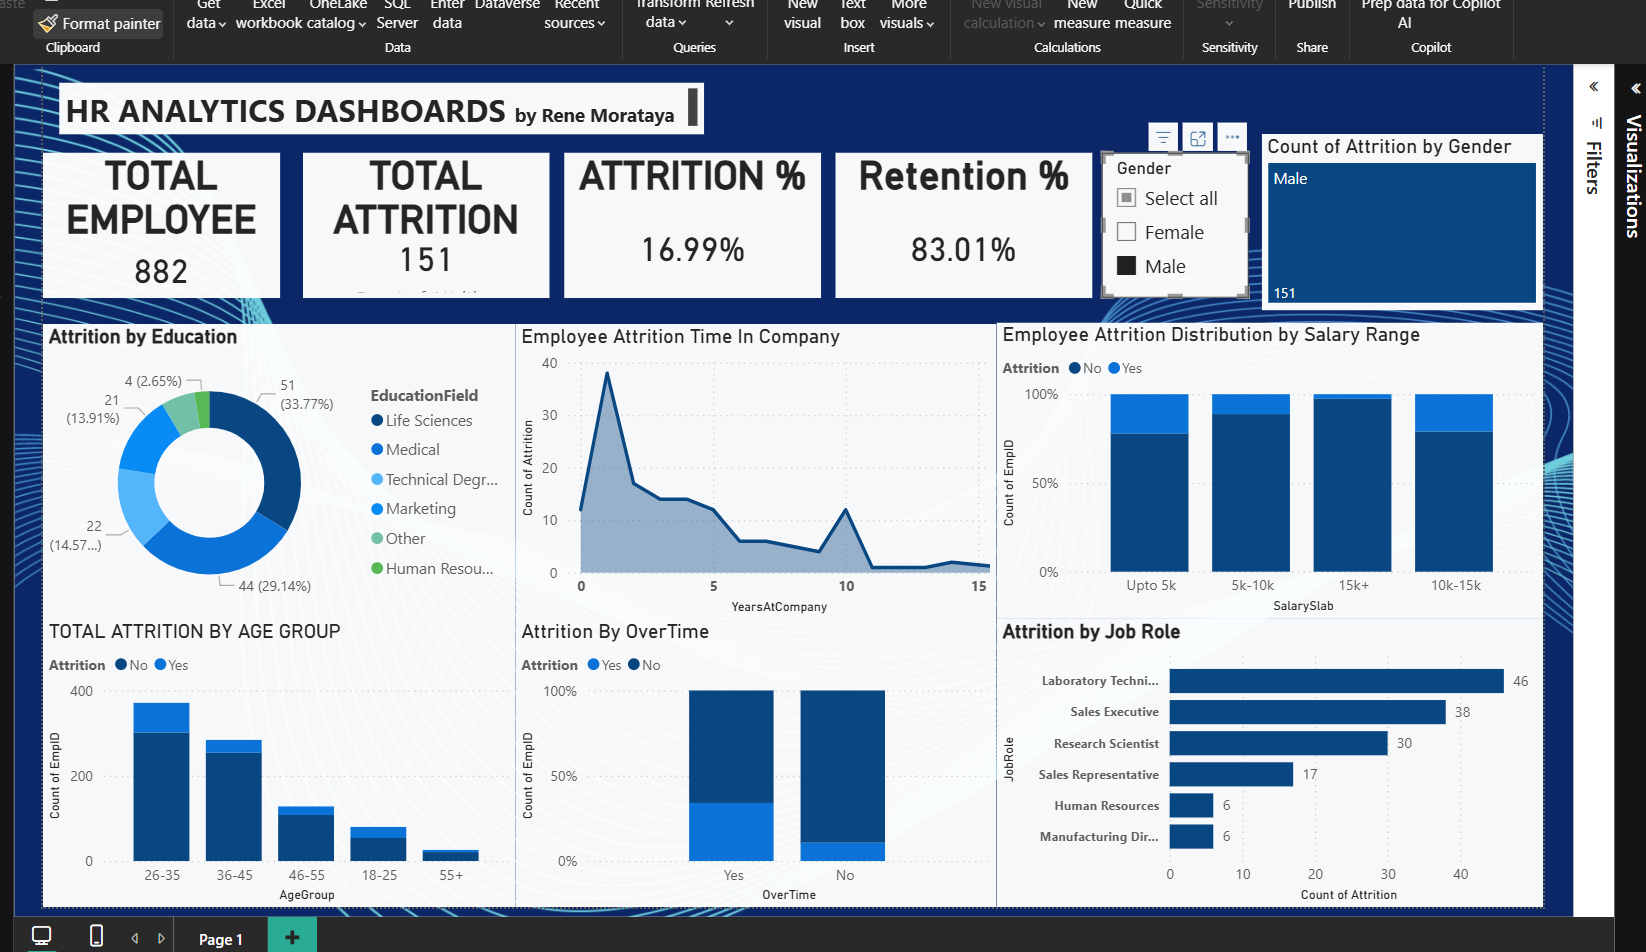

The page's visual inventory and layout, read from the dashboard file:
{"tool":"powerbi","page":{"name":"Page 1","canvas":[1280,720],"ordinal":0},"visuals":[{"type":"columnChart","title":"TOTAL ATTRITION BY AGE GROUP","fields":{"Category":["HR_Analytics.AgeGroup"],"Y":["CountNonNull(HR_Analytics.EmpID)"],"Series":["HR_Analytics.Attrition"]},"box":[0,473.9,403.4,246.6],"z":0},{"type":"card","title":"TOTAL EMPLOYEE","fields":{"Values":["Count(HR_Analytics.EmpID)"]},"box":[0,76.1,202.3,123.9],"z":1000},{"type":"hundredPercentStackedColumnChart","title":" Attrition By OverTime","fields":{"Category":["HR_Analytics.OverTime"],"Y":["CountNonNull(HR_Analytics.EmpID)"],"Series":["HR_Analytics.Attrition"]},"box":[403.4,473.9,410.2,246.6],"z":2000},{"type":"donutChart","title":"Attrition by Education","fields":{"Category":["HR_Analytics.EducationField"],"Y":["CountNonNull(HR_Analytics.Attrition)"]},"box":[0,221.6,403.4,252.3],"z":3000},{"type":"stackedAreaChart","title":"Employee Attrition Time In Company ","fields":{"Category":["HR_Analytics.YearsAtCompany"],"Y":["CountNonNull(HR_Analytics.Attrition)"]},"box":[403.4,221.6,410.2,252.3],"z":4000},{"type":"treemap","fields":{"Group":["HR_Analytics.Gender"],"Values":["CountNonNull(HR_Analytics.Attrition)"]},"box":[1040,60,240,150],"z":5000},{"type":"clusteredBarChart","title":" Attrition by Job Role","fields":{"Category":["HR_Analytics.JobRole"],"Y":["CountNonNull(HR_Analytics.Attrition)"]},"box":[813.8,473.8,466.2,246.2],"z":6000},{"type":"hundredPercentStackedColumnChart","title":"Employee Attrition Distribution by Salary Range","fields":{"Category":["HR_Analytics.SalarySlab"],"Series":["HR_Analytics.Attrition"],"Y":["CountNonNull(HR_Analytics.EmpID)"]},"box":[813.8,221.2,466.2,252.5],"z":7000},{"type":"textbox","box":[13.8,16.2,550,43.8],"z":8000},{"type":"card","title":"TOTAL ATTRITION","fields":{"Values":["CountNonNull(HR_Analytics.Attrition)"]},"box":[221.6,76.1,210.2,123.9],"z":9000},{"type":"card","title":"ATTRITION %","fields":{"Values":["HR_Analytics.Attrition %"]},"box":[445.5,76.1,219.3,123.9],"z":10000},{"type":"card","title":"Retention  %","fields":{"Values":["HR_Analytics.Retention %"]},"box":[676.1,76.1,219.3,123.9],"z":11000},{"type":"slicer","fields":{"Values":["HR_Analytics.Gender"]},"box":[903.7,75.8,124.8,123.8],"z":11001}]}

Visuals, with their boxes on the page's 1280x720 design canvas (x1, y1, x2, y2). These are canvas units, not pixel positions in the 1646x952 screenshot, which may show the page scaled, cropped or inside an application window:
"TOTAL ATTRITION BY AGE GROUP" columnChart: [left=0, top=474, right=403, bottom=720]
"TOTAL EMPLOYEE" card: [left=0, top=76, right=202, bottom=200]
" Attrition By OverTime" hundredPercentStackedColumnChart: [left=403, top=474, right=814, bottom=720]
"Attrition by Education" donutChart: [left=0, top=222, right=403, bottom=474]
"Employee Attrition Time In Company " stackedAreaChart: [left=403, top=222, right=814, bottom=474]
treemap - HR_Analytics.Gender x CountNonNull(HR_Analytics.Attrition): [left=1040, top=60, right=1280, bottom=210]
" Attrition by Job Role" clusteredBarChart: [left=814, top=474, right=1280, bottom=720]
"Employee Attrition Distribution by Salary Range" hundredPercentStackedColumnChart: [left=814, top=221, right=1280, bottom=474]
textbox: [left=14, top=16, right=564, bottom=60]
"TOTAL ATTRITION" card: [left=222, top=76, right=432, bottom=200]
"ATTRITION %" card: [left=446, top=76, right=665, bottom=200]
"Retention  %" card: [left=676, top=76, right=895, bottom=200]
slicer - HR_Analytics.Gender: [left=904, top=76, right=1028, bottom=200]
